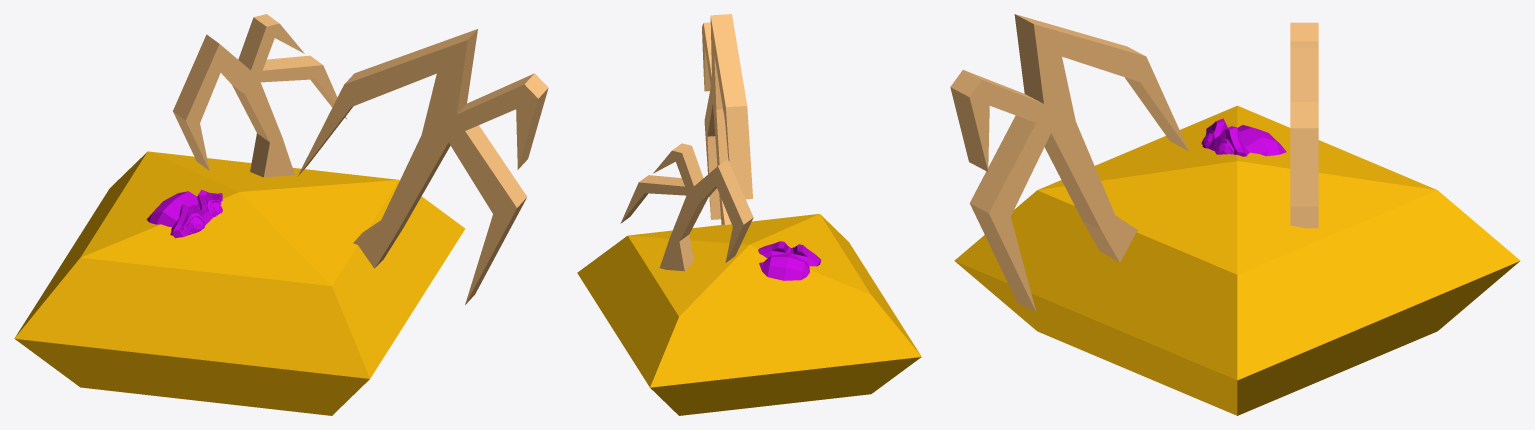
File: blender-godot-island-test2.glb
The picture shows the model from 3 angles, left to right: view 1: azimuth 30°, elevation 25°; view 2: azimuth 150°, elevation 25°; view 3: azimuth 270°, elevation 25°; orthographic projection. The views are drawn at different scales.
Parts seen in each view (by area): view 1: CSGSphere3D2, CSGCombiner3D2, Suzanne; view 2: CSGSphere3D2, CSGCombiner3D2, Suzanne; view 3: CSGSphere3D2, CSGCombiner3D2, Suzanne.
Part boxes in pixels (x1=…): CSGSphere3D2: x1=14, y1=151, x2=465, y2=415; CSGCombiner3D2: x1=173, y1=14, x2=548, y2=304; Suzanne: x1=146, y1=189, x2=222, y2=238; CSGSphere3D2: x1=577, y1=214, x2=921, y2=415; CSGCombiner3D2: x1=620, y1=14, x2=753, y2=271; Suzanne: x1=758, y1=241, x2=821, y2=280; CSGSphere3D2: x1=954, y1=105, x2=1520, y2=415; CSGCombiner3D2: x1=950, y1=14, x2=1318, y2=312; Suzanne: x1=1201, y1=118, x2=1286, y2=156.
Size of the model in its own units: 5 by 4.02 by 5.03.
